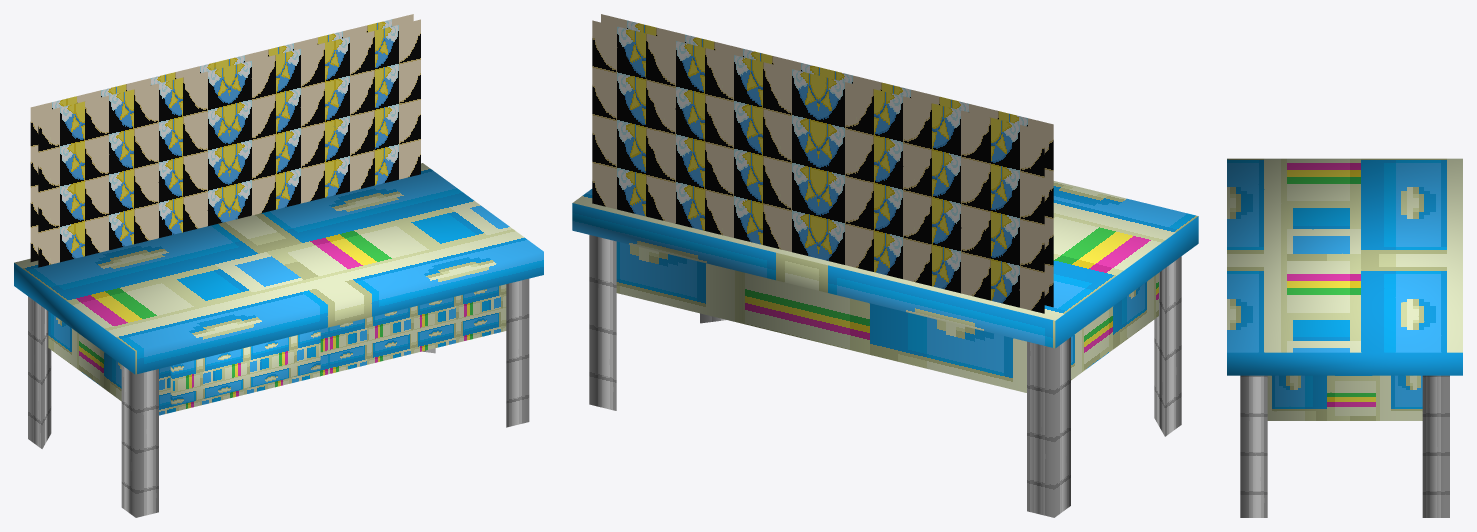
The picture shows the model from 3 angles, left to right: view 1: azimuth 30°, elevation 25°; view 2: azimuth 150°, elevation 25°; view 3: azimuth 270°, elevation 25°; orthographic projection. The views are drawn at different scales.
Visible parts, largest first — view 1: 3720kg_sk_ta2; view 2: 3720kg_sk_ta2; view 3: 3720kg_sk_ta2.
Boxes of the visible parts, x1,y1,x2,y2 form: 3720kg_sk_ta2: (14, 14, 543, 517); 3720kg_sk_ta2: (572, 14, 1198, 517); 3720kg_sk_ta2: (1227, 158, 1462, 517).
Size of the model in its own units: 1.85 by 1.42 by 0.949.
Materials: 3 (3 with a texture image).
